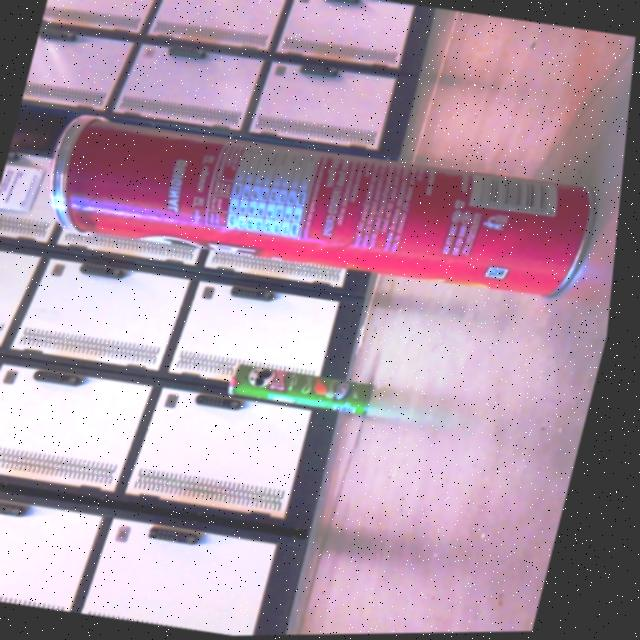greenpringles: (204, 343, 407, 447)
redpringles: (5, 94, 632, 347)
